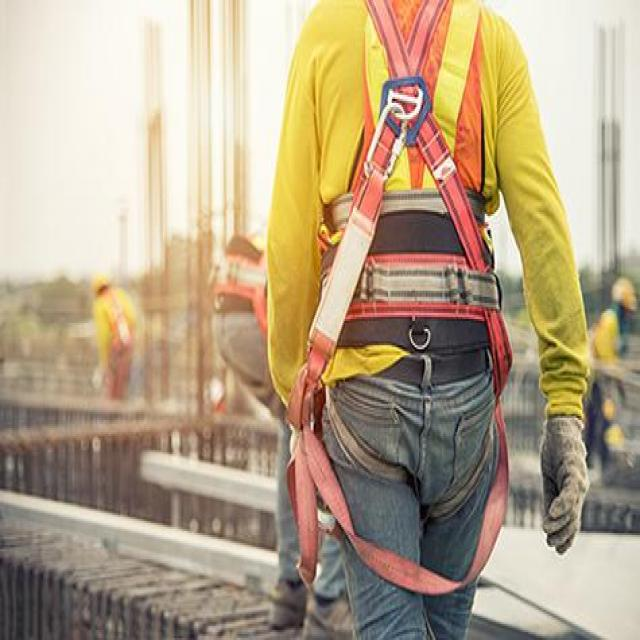Reflective-Jacket: (248, 12, 593, 414), (88, 283, 142, 361)
Safety-Helmet: (606, 268, 639, 317), (85, 262, 117, 299)
